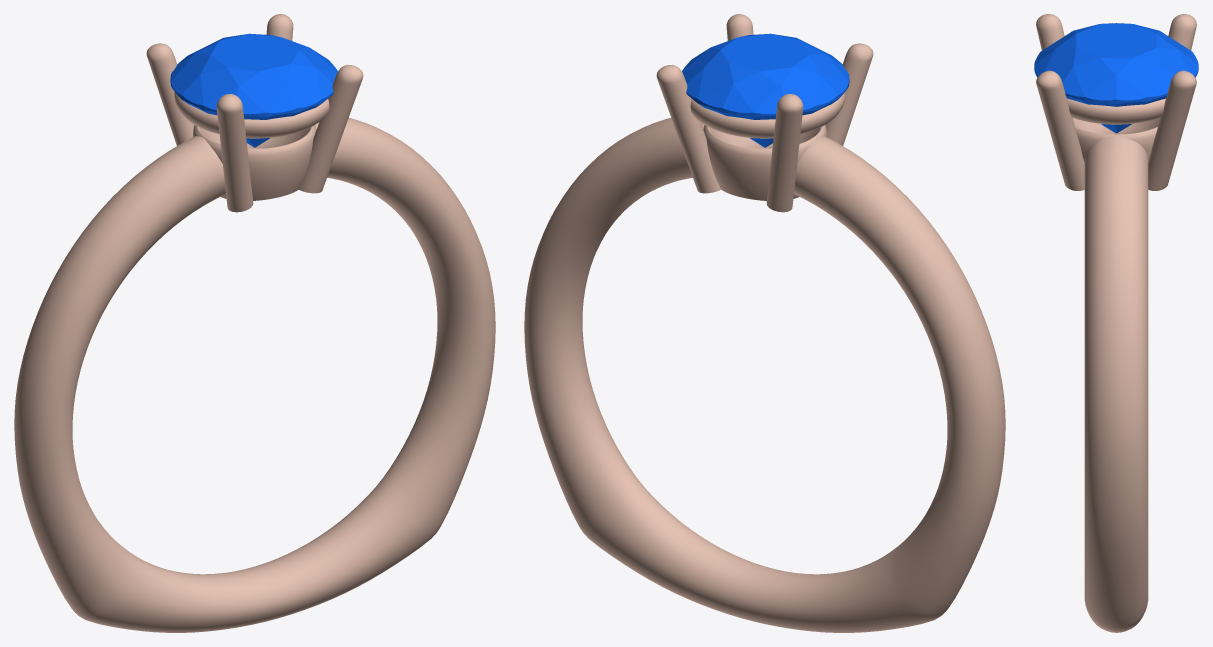
File: bluesapphire-round-rosegold-4prong-europeanshank-nosidestones.glb
3 views of the same model, side by side, from view 1: azimuth 30°, elevation 25°; view 2: azimuth 150°, elevation 25°; view 3: azimuth 270°, elevation 25° (orthographic). The views are drawn at different scales.
Parts seen in each view (by area): view 1: RoundEuroShankNoStones, Roundstone; view 2: RoundEuroShankNoStones, Roundstone; view 3: RoundEuroShankNoStones, Roundstone.
Boxes of the visible parts, x1,y1,x2,y2 form: RoundEuroShankNoStones: (14,14,495,632); Roundstone: (170,33,337,147); RoundEuroShankNoStones: (524,14,1005,632); Roundstone: (682,33,849,147); RoundEuroShankNoStones: (1036,14,1196,632); Roundstone: (1034,23,1198,133).
Bounding box in the file's own units: 20.7 × 23.81 × 6.44.
